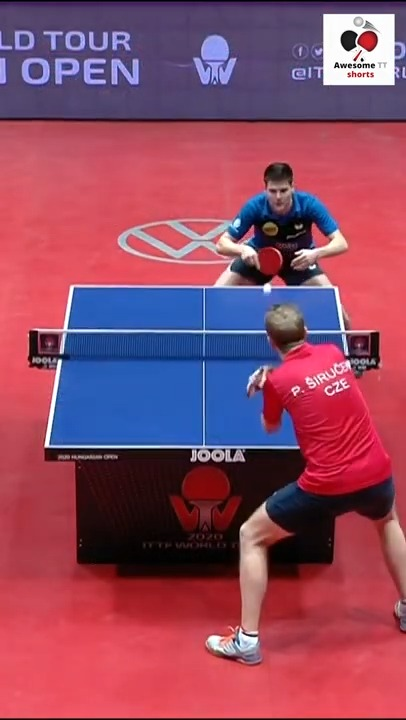Ball: (263, 282, 274, 294)
